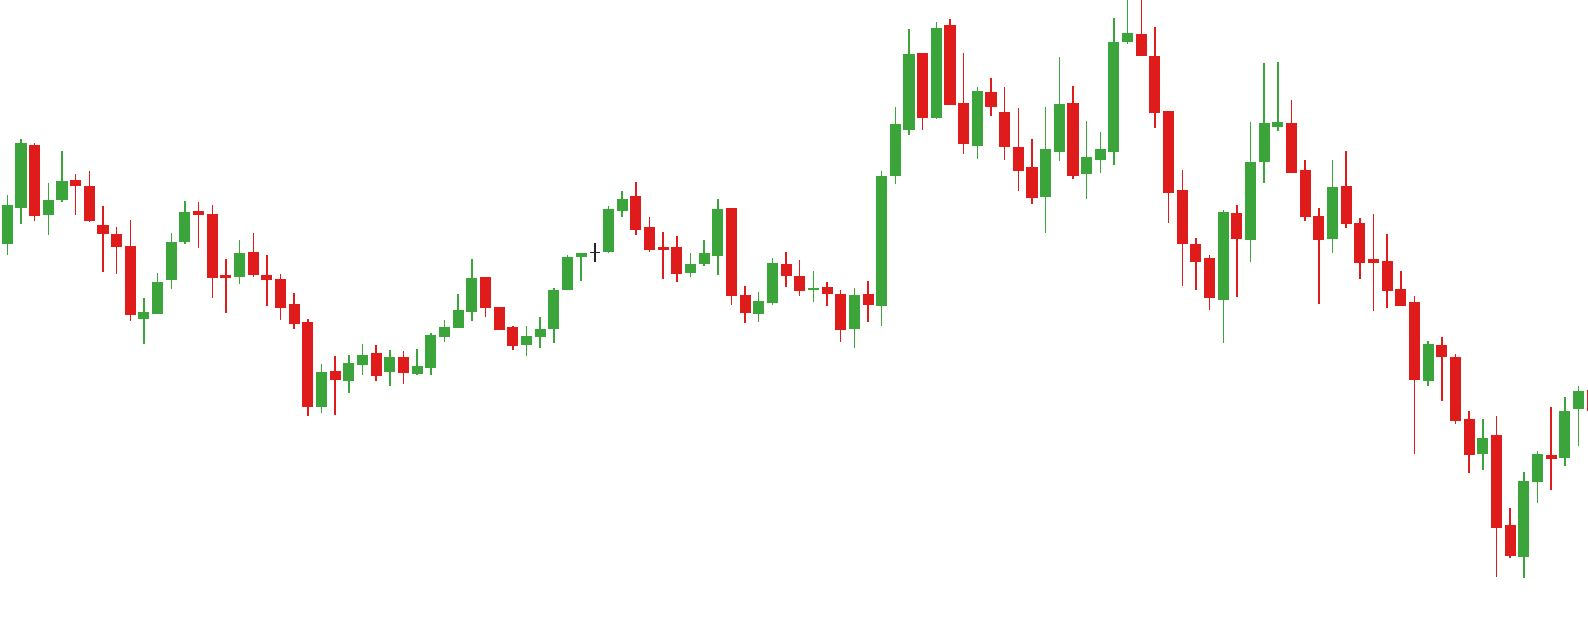buy: (739, 274, 860, 352)
sell: (928, 5, 1150, 129)
